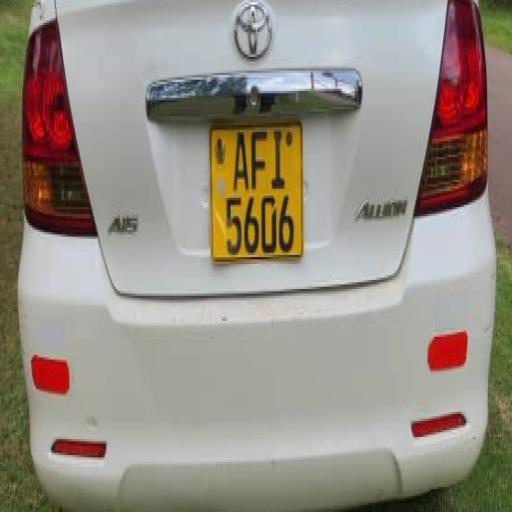number-plates: (211, 118, 301, 254)
